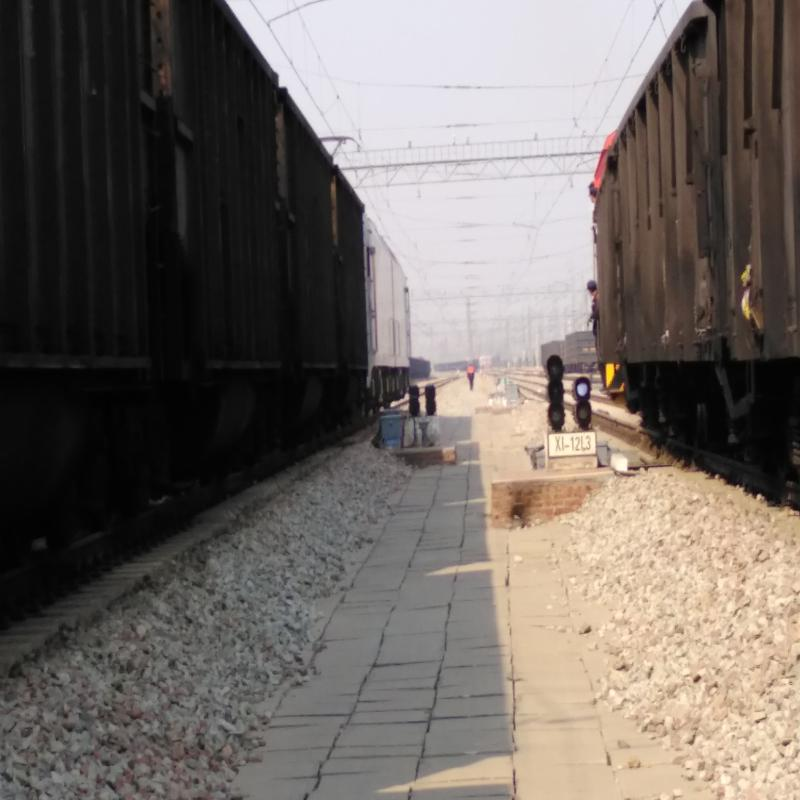train: (590, 168, 772, 462), (360, 217, 417, 405)
